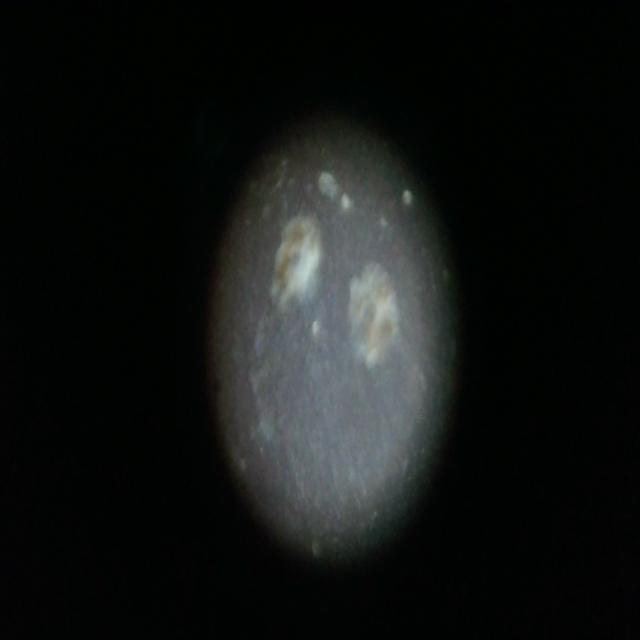alexandrium: (266, 216, 328, 318), (348, 256, 403, 362)
